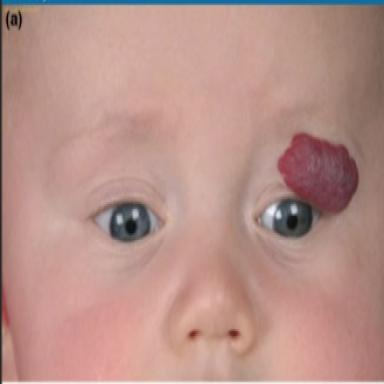Hemangiome: (278, 133, 359, 212)
